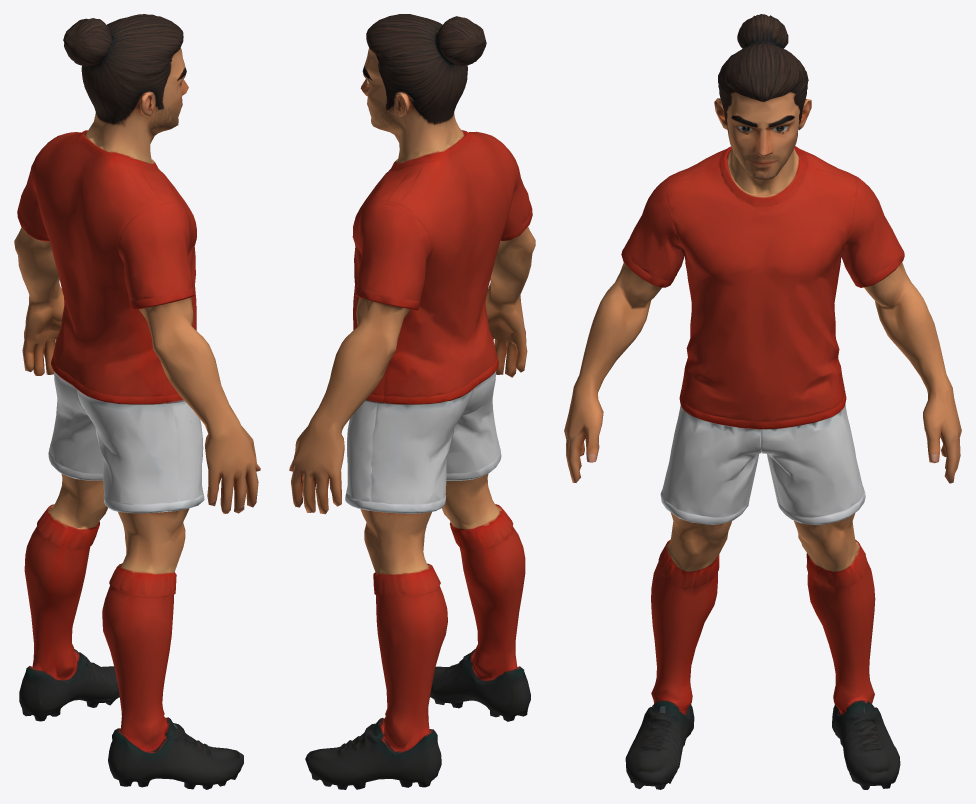
Rendered from gen.glb.
3 renders of one model, left to right at view 1: azimuth 30°, elevation 25°; view 2: azimuth 150°, elevation 25°; view 3: azimuth 270°, elevation 25°, orthographic.
Visible parts, largest first — view 1: tripo_node_fd29ebe5-e173-49f1-9e2c-e877642da17d; view 2: tripo_node_fd29ebe5-e173-49f1-9e2c-e877642da17d; view 3: tripo_node_fd29ebe5-e173-49f1-9e2c-e877642da17d.
Boxes of the visible parts, bbox=[...] form: tripo_node_fd29ebe5-e173-49f1-9e2c-e877642da17d: bbox=[14, 14, 260, 789]; tripo_node_fd29ebe5-e173-49f1-9e2c-e877642da17d: bbox=[289, 14, 535, 789]; tripo_node_fd29ebe5-e173-49f1-9e2c-e877642da17d: bbox=[564, 14, 961, 789].
Bounding box in the file's own units: 0.1711 × 0.9802 × 0.4807.
Materials: 1 (1 with a texture image).
